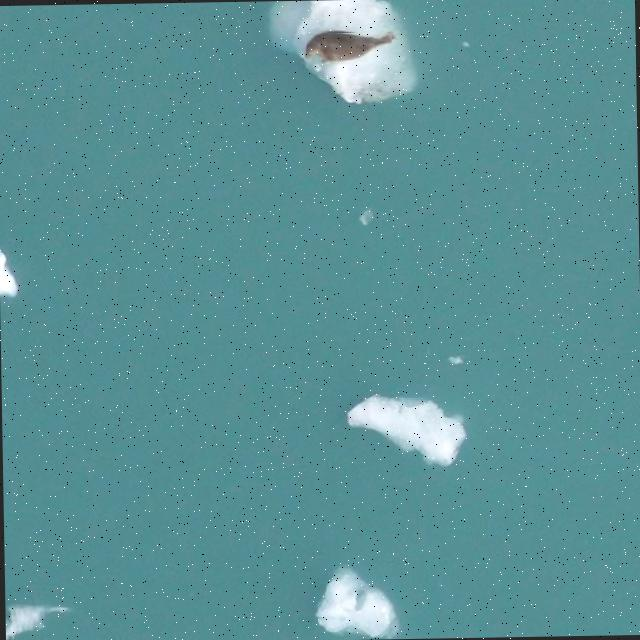seal: (306, 31, 393, 63)
